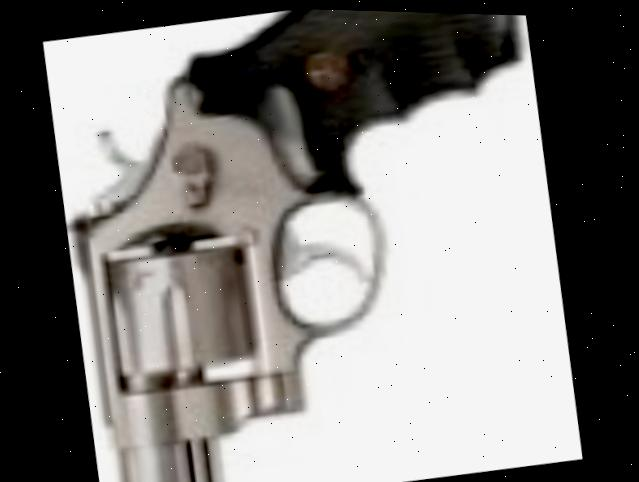pistol: (33, 1, 583, 482)
